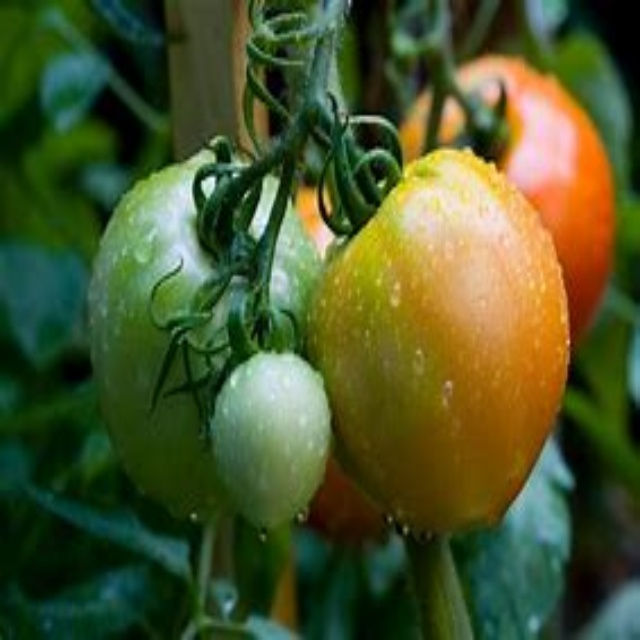tomato: (291, 154, 571, 554), (99, 157, 326, 538), (399, 32, 616, 344)
